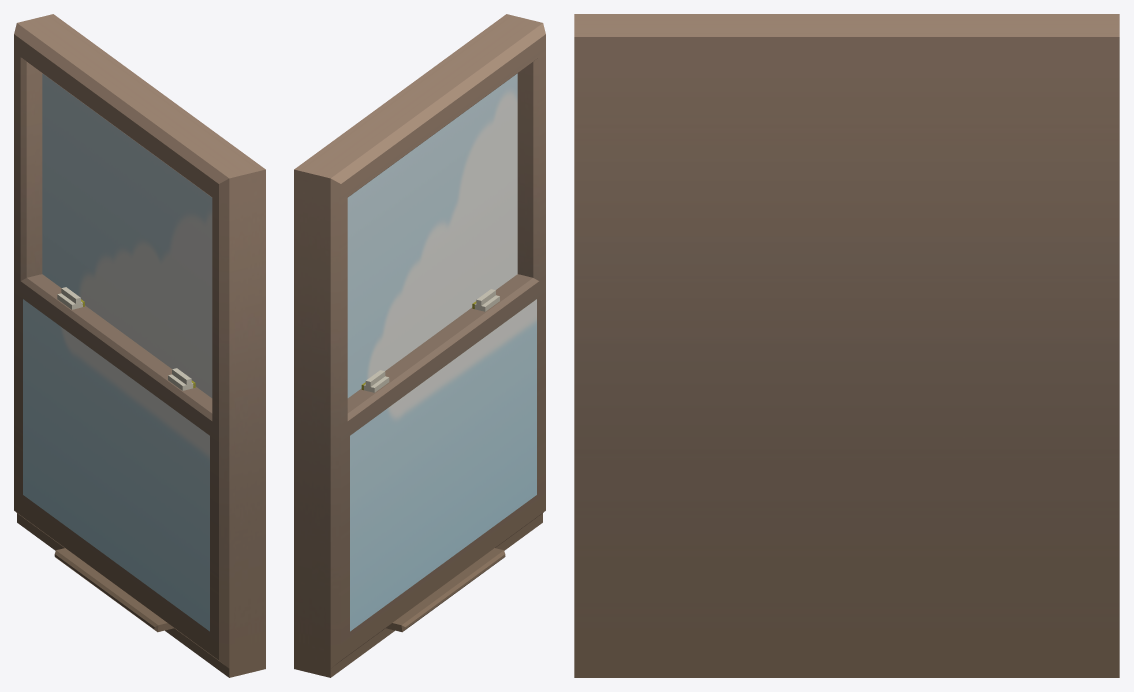
Rendered from window03.fbx.
The picture shows the model from 3 angles, left to right: view 1: azimuth 30°, elevation 25°; view 2: azimuth 150°, elevation 25°; view 3: azimuth 270°, elevation 25°; orthographic projection. The views are drawn at different scales.
Parts seen in each view (by area): view 1: window03; view 2: window03; view 3: window03.
Boxes of the visible parts, left/top/right/bottom form: window03: left=14, top=14, right=265, bottom=677; window03: left=294, top=14, right=545, bottom=677; window03: left=574, top=14, right=1119, bottom=677.
Size of the model in its own units: 0.5374 by 4.63 by 3.57.
